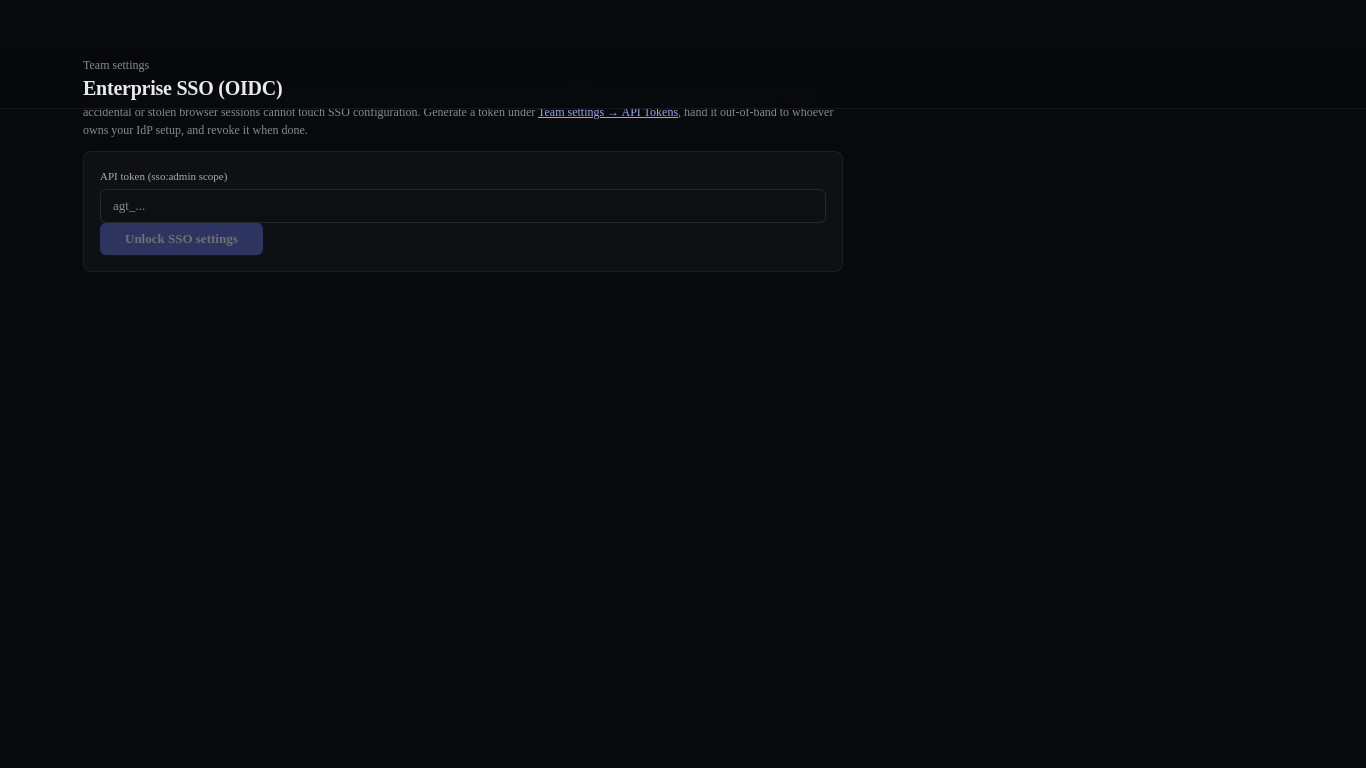
it: /settings/team/sso links back to team settings › carry the whoami team once unlocked (query before the hash)
In the password field labelled "API token (sso:admin scope)": [463, 206] box [100,188,826,222], type "agt_x"
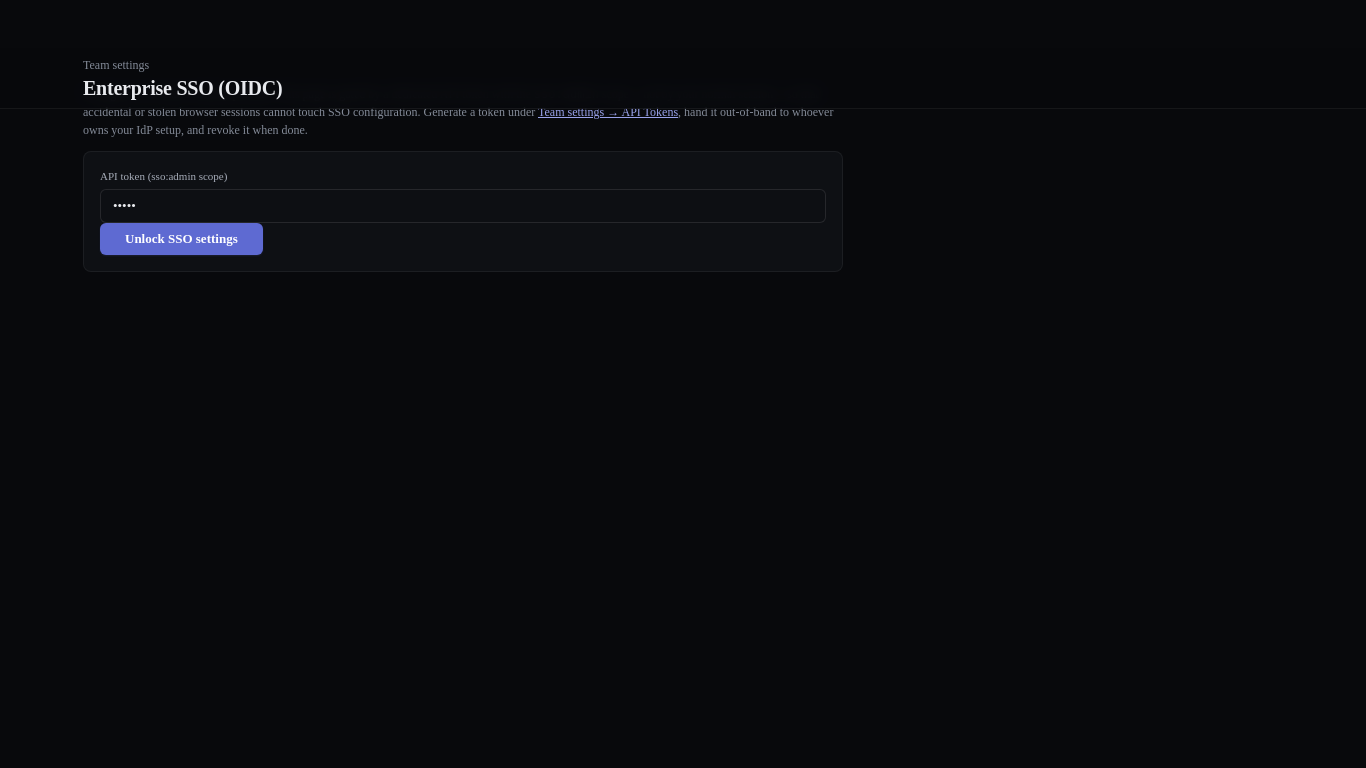
Click the button "Unlock SSO settings": [181, 238] box [100,222,263,254]
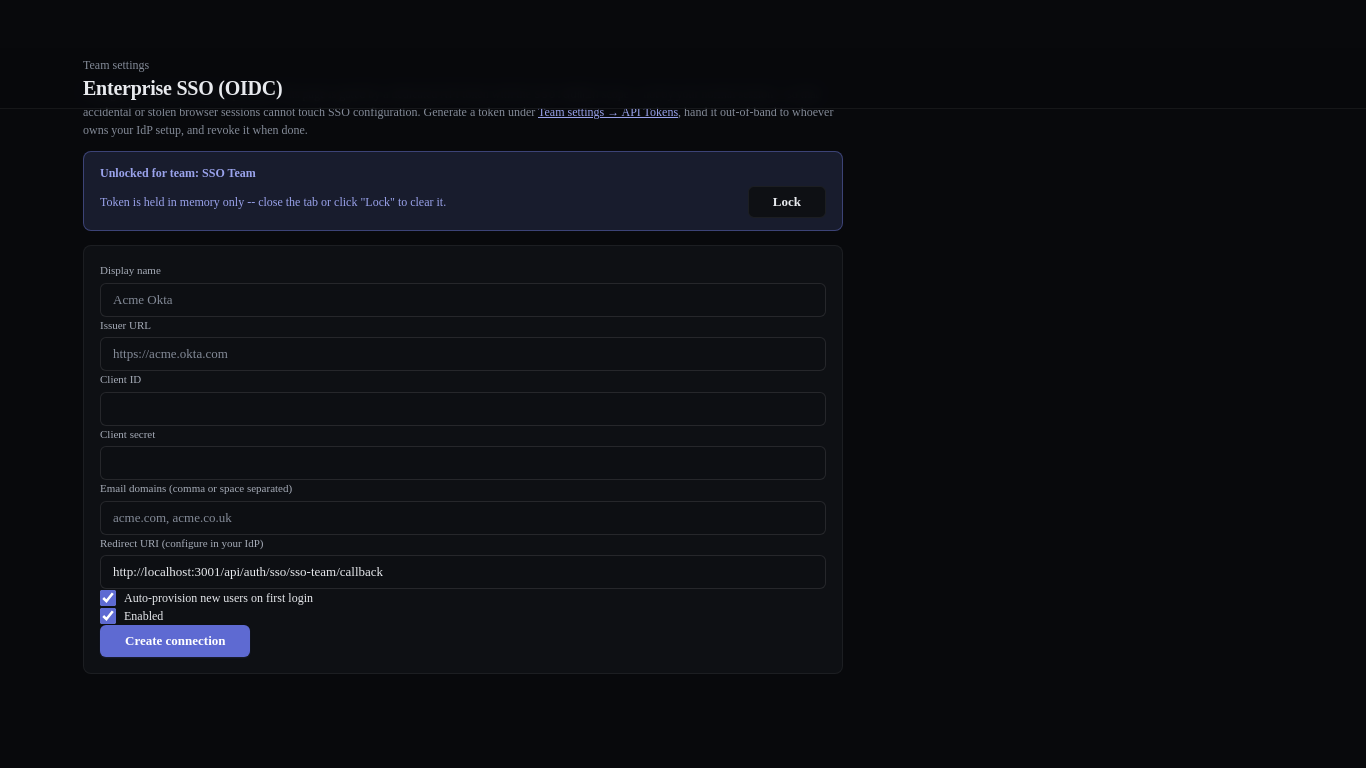
Check: the text "Unlocked for team: SSO Team" is shown, box [100,166,256,180]
